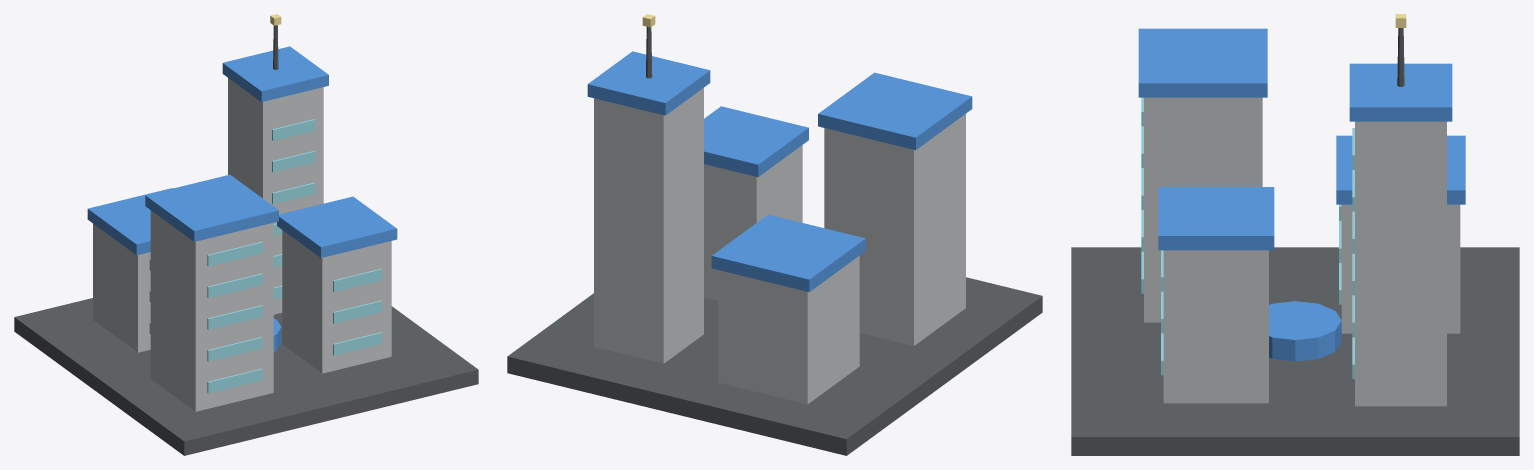
Rendered from City.fbx.
The picture shows the model from 3 angles, left to right: view 1: azimuth 30°, elevation 25°; view 2: azimuth 150°, elevation 25°; view 3: azimuth 270°, elevation 25°; orthographic projection. The views are drawn at different scales.
Parts seen in each view (by area): view 1: Metal.001, Dark.001, Team.001, Glass; view 2: Metal.001, Dark.001, Team.001; view 3: Metal.001, Dark.001, Team.001, Glass.
Boxes of the visible parts, x1,y1,x2,y2 form: Metal.001: (93,78,391,411); Dark.001: (14,25,478,455); Team.001: (87,46,397,351); Glass: (149,119,382,393); Metal.001: (594,88,965,404); Dark.001: (507,27,1042,455); Team.001: (587,51,972,292); Metal.001: (1144,97,1460,406); Dark.001: (1071,28,1519,455); Team.001: (1138,28,1465,361); Glass: (1141,97,1354,378).
Size of the model in its own units: 340 by 326 by 340.
